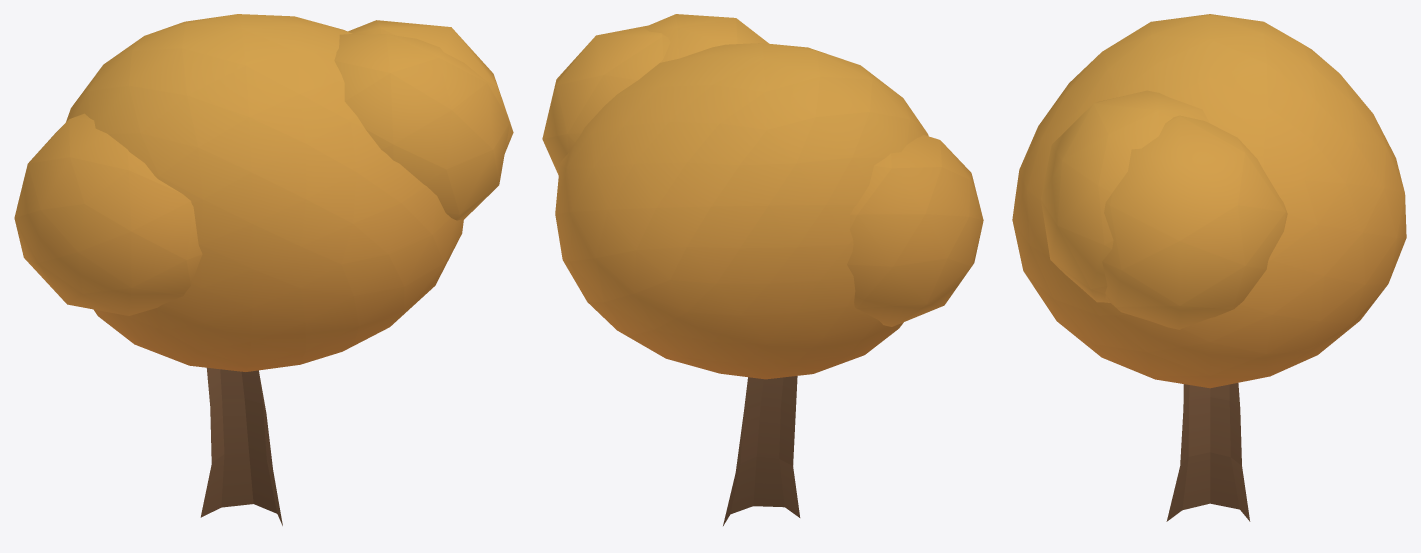
Rendered from tree_10_hi.glb.
3 views of the same model, side by side, from view 1: azimuth 30°, elevation 25°; view 2: azimuth 150°, elevation 25°; view 3: azimuth 270°, elevation 25° (orthographic). The views are drawn at different scales.
Parts seen in each view (by area): view 1: tree_hi_10; view 2: tree_hi_10; view 3: tree_hi_10.
Boxes of the visible parts, x1,y1,x2,y2 form: tree_hi_10: (14,14,513,525); tree_hi_10: (542,14,983,525); tree_hi_10: (1012,14,1406,521).
Bounding box in the file's own units: 3.53 × 3.71 × 2.75.
